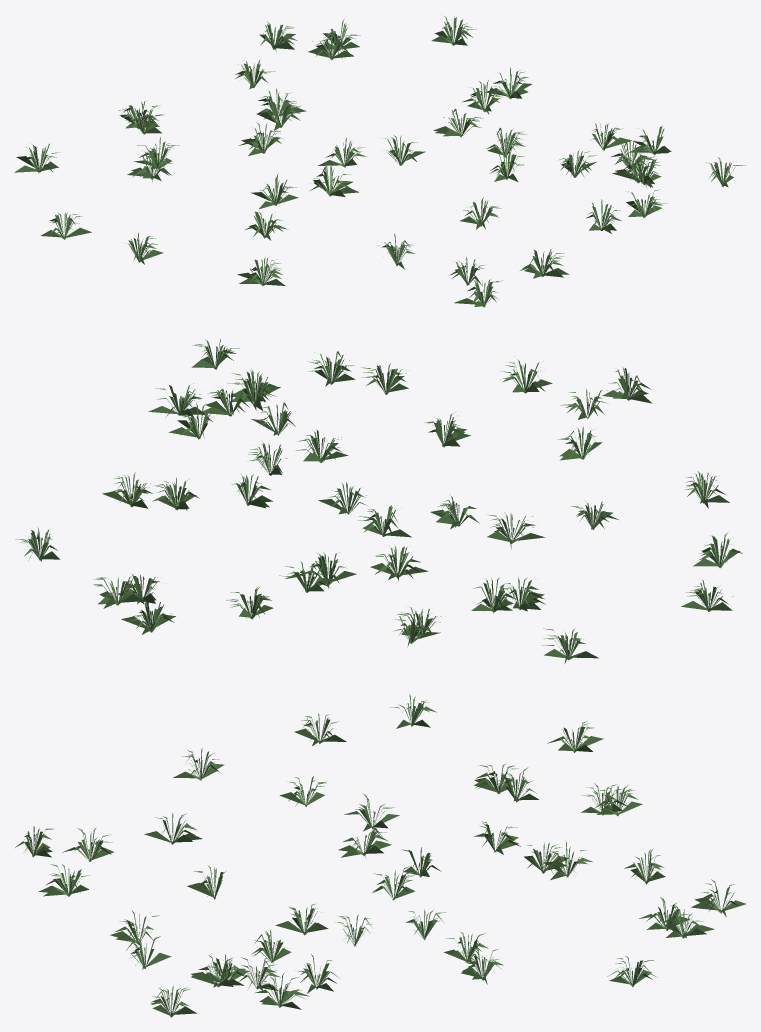
File: teaching3-vegetation-17-medium.glb
3 renders of one model, top to bottom at view 1: azimuth 30°, elevation 25°; view 2: azimuth 150°, elevation 25°; view 3: azimuth 270°, elevation 25°, orthographic. The views are drawn at different scales.
Parts seen in each view (by area): view 1: mondo grass; view 2: mondo grass; view 3: mondo grass.
Part boxes in pixels (<box>): mondo grass: <box>14,16,746,307</box>; mondo grass: <box>15,339,742,663</box>; mondo grass: <box>15,694,745,1017</box>.
Size of the model in its own units: 11.35 by 0.4935 by 11.24.
